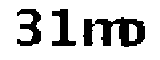1: (48, 6, 80, 51)
3: (12, 3, 44, 52)
D: (115, 14, 148, 52)
n: (78, 13, 114, 50)
